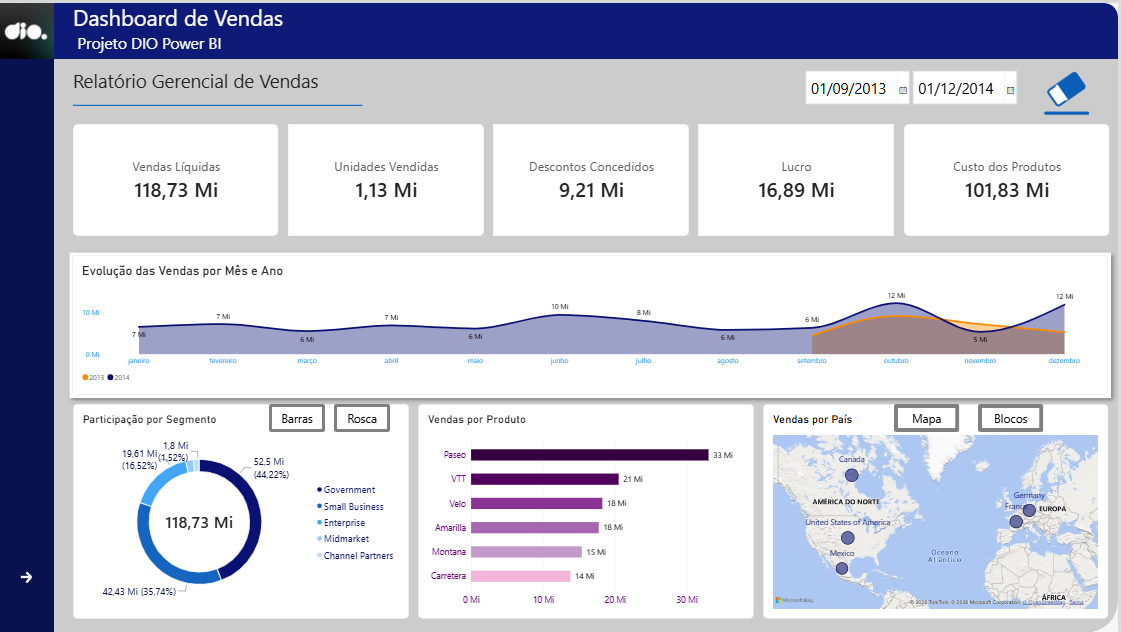

Layout of this report page (visuals, bound fields, positions):
{"tool":"powerbi","page":{"name":"Vendas","canvas":[1920,1080],"ordinal":0},"visuals":[{"type":"slicer","fields":{"Values":["financials.Date"]},"box":[1376,112,400,64],"z":0,"group":"g2"},{"type":"shape","box":[144,208,320,192],"z":0,"group":"g1"},{"type":"shape","box":[1552,208,352,192],"z":0},{"type":"shape","box":[112,416,1808,272],"z":0,"group":"g3"},{"type":"clusteredBarChart","title":"Vendas por Segmento","fields":{"Category":["financials.Segment"],"Y":["Sum(financials. Sales)"]},"box":[128,688,576,368],"z":0,"group":"g4"},{"type":"map","title":"Vendas por País","fields":{"Category":["financials.Country"],"Size":["Sum(financials. Sales)"]},"box":[1312,688,592,368],"z":0,"group":"g5"},{"type":"image","title":"burracha","box":[1776,96,112,112],"z":1000,"group":"g2"},{"type":"shape","box":[1200,208,336,192],"z":1000,"group":"g1"},{"type":"areaChart","fields":{"Category":["financials.Date.Variation.Hierarquia de datas.Ano","financials.Date.Variation.Hierarquia de datas.Trimestre","financials.Date.Variation.Hierarquia de datas.Mês","financials.Date.Variation.Hierarquia de datas.Dia"],"Series":["financials.Date.Variation.Hierarquia de datas.Ano"],"Y":["Sum(financials. Sales)"]},"box":[128,432,1776,240],"z":1000,"group":"g3"},{"type":"donutChart","title":"Participação por Segmento","fields":{"Category":["financials.Segment"],"Y":["Sum(financials. Sales)"]},"box":[128,688,576,368],"z":1000,"group":"g4"},{"type":"shape","box":[1328,688,560,352.7],"z":1000},{"type":"actionButton","box":[1776,112,96,80],"z":2000,"group":"g2"},{"type":"shape","box":[496,208,320,192],"z":2000,"group":"g1"},{"type":"actionButton","title":"Botão-bar","box":[464,688,96,48],"z":2000,"group":"g4"},{"type":"shape","box":[728,688,576,368],"z":2000},{"type":"actionButton","title":"Botão-map","box":[1536,688,112,48],"z":2000,"group":"g5"},{"type":"shape","box":[1568,208,320,192],"z":3000,"group":"g1"},{"type":"actionButton","title":"Botão-ros","box":[576,688,96,48],"z":3000,"group":"g4"},{"type":"actionButton","title":"Botão-bloco","box":[1680,688,112,48],"z":3000,"group":"g5"},{"type":"shape","box":[144,712,576,368],"z":3000},{"type":"shape","box":[848,208,320,192],"z":4000,"group":"g1"},{"type":"shape","box":[1184,208,352,192],"z":4000},{"type":"cardVisual","fields":{"Data":["Sum(financials.Units Sold)"]},"box":[496,208,336,192],"z":5000,"group":"g1"},{"type":"shape","box":[832,208,336,192],"z":5000},{"type":"shape","box":[0,-8,1920,1088],"z":6000},{"type":"cardVisual","fields":{"Data":["Sum(financials.Discounts)"]},"box":[848,208,336,192],"z":6000,"group":"g1"},{"type":"shape","box":[0,-24,96,1104],"z":7000},{"type":"cardVisual","fields":{"Data":["Sum(financials.COGS)"]},"box":[1552,208,352,192],"z":7000,"group":"g1"},{"type":"shape","box":[96,0,1824,96],"z":8000},{"type":"cardVisual","fields":{"Data":["Sum(financials. Sales)"]},"box":[128,208,352,192],"z":8000,"group":"g1"},{"type":"textbox","box":[128,0,576,112],"z":9000},{"type":"cardVisual","fields":{"Data":["Sum(financials.Profit)"]},"box":[1200,208,336,192],"z":9000,"group":"g1"},{"type":"image","title":"Logo-Dio","box":[0,0,96,96],"z":10000},{"type":"shape","box":[128,16,496,320],"z":11000},{"type":"textbox","box":[128,112,448,96],"z":12000},{"type":"group","id":"g1","title":"Cartões","box":[128,208,1776,192],"z":13000},{"type":"group","id":"g2","title":"Filtro por Data","box":[1376,96,512,112],"z":14000},{"type":"group","id":"g3","title":"Evolução","box":[112,416,1808,272],"z":15000},{"type":"clusteredBarChart","title":"Vendas por Produto","fields":{"Category":["financials.Product"],"Y":["Sum(financials. Sales)"]},"box":[720,688,576,368],"z":16000},{"type":"actionButton","box":[0,944,96,80],"z":17000},{"type":"group","id":"g4","title":"Sigmento","box":[128,688,576,368],"z":18000},{"type":"group","id":"g5","title":"Paises","box":[1312,688,592,368],"z":19000}]}

Visuals, with their boxes in screenshot pixels (x1, y1, x2, y2), scaled from the page's 1920x1080 canvas onto the 1121x632 screenshot:
slicer - financials.Date: <region>803, 66, 1037, 103</region>
shape: <region>84, 122, 271, 234</region>
shape: <region>906, 122, 1112, 234</region>
shape: <region>65, 243, 1120, 403</region>
"Vendas por Segmento" clusteredBarChart: <region>75, 403, 411, 618</region>
"Vendas por País" map: <region>766, 403, 1112, 618</region>
"burracha" image: <region>1037, 56, 1102, 122</region>
shape: <region>701, 122, 897, 234</region>
areaChart - financials.Date.Variation.Hierarquia de datas.Ano x financials.Date.Variation.Hierarquia de datas.Trimestre: <region>75, 253, 1112, 393</region>
"Participação por Segmento" donutChart: <region>75, 403, 411, 618</region>
shape: <region>775, 403, 1102, 609</region>
actionButton: <region>1037, 66, 1093, 112</region>
shape: <region>290, 122, 476, 234</region>
"Botão-bar" actionButton: <region>271, 403, 327, 431</region>
shape: <region>425, 403, 761, 618</region>
"Botão-map" actionButton: <region>897, 403, 962, 431</region>
shape: <region>915, 122, 1102, 234</region>
"Botão-ros" actionButton: <region>336, 403, 392, 431</region>
"Botão-bloco" actionButton: <region>981, 403, 1046, 431</region>
shape: <region>84, 417, 420, 631</region>
shape: <region>495, 122, 682, 234</region>
shape: <region>691, 122, 897, 234</region>
cardVisual - Sum(financials.Units Sold): <region>290, 122, 486, 234</region>
shape: <region>486, 122, 682, 234</region>
shape: <region>0, 0, 1120, 631</region>
cardVisual - Sum(financials.Discounts): <region>495, 122, 691, 234</region>
shape: <region>0, 0, 56, 631</region>
cardVisual - Sum(financials.COGS): <region>906, 122, 1112, 234</region>
shape: <region>56, 0, 1120, 56</region>
cardVisual - Sum(financials. Sales): <region>75, 122, 280, 234</region>
textbox: <region>75, 0, 411, 66</region>
cardVisual - Sum(financials.Profit): <region>701, 122, 897, 234</region>
"Logo-Dio" image: <region>0, 0, 56, 56</region>
shape: <region>75, 9, 364, 197</region>
textbox: <region>75, 66, 336, 122</region>
"Cartões" group: <region>75, 122, 1112, 234</region>
"Filtro por Data" group: <region>803, 56, 1102, 122</region>
"Evolução" group: <region>65, 243, 1120, 403</region>
"Vendas por Produto" clusteredBarChart: <region>420, 403, 757, 618</region>
actionButton: <region>0, 552, 56, 599</region>
"Sigmento" group: <region>75, 403, 411, 618</region>
"Paises" group: <region>766, 403, 1112, 618</region>
